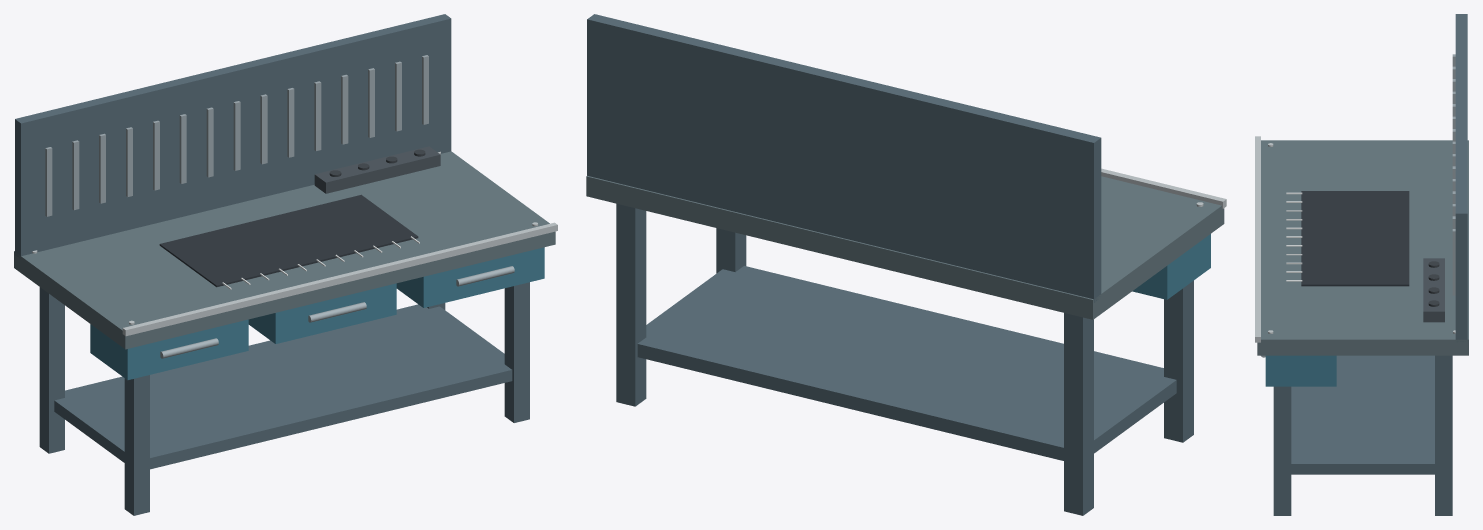
The model's file is workbench_lod0.glb.
3 renders of one model, left to right at view 1: azimuth 30°, elevation 25°; view 2: azimuth 150°, elevation 25°; view 3: azimuth 270°, elevation 25°, orthographic. The views are drawn at different scales.
Parts seen in each view (by area): view 1: BENCH_BACK_MAT_METAL_DARK, BENCH_TOP_MAT_BENCH_TOP, LOWER_SHELF_MAT_METAL_DARK, BENCH_ANTISTATIC_MAT_RUBBER, DRAWER_-1.65_MAT_POLYMER_BLUE, BENCH_EDGE_TRIM_MAT_STAINLESS, DRAWER_1.65_MAT_POLYMER_BLUE, DRAWER_0_MAT_POLYMER_BLUE, LEG_-2.12_-0.82_MAT_METAL_DARK, LEG_-2.12_0.82_MAT_METAL_DARK, LEG_2.12_0.82_MAT_METAL_DARK, BENCH_POWER_STRIP_MAT_POLYMER_BLACK; view 2: BENCH_BACK_MAT_METAL_DARK, LOWER_SHELF_MAT_METAL_DARK, BENCH_TOP_MAT_BENCH_TOP, LEG_2.12_-0.82_MAT_METAL_DARK, LEG_-2.12_-0.82_MAT_METAL_DARK, LEG_-2.12_0.82_MAT_METAL_DARK, DRAWER_-1.65_MAT_POLYMER_BLUE, LEG_2.12_0.82_MAT_METAL_DARK, BENCH_EDGE_TRIM_MAT_STAINLESS; view 3: BENCH_TOP_MAT_BENCH_TOP, LOWER_SHELF_MAT_METAL_DARK, BENCH_ANTISTATIC_MAT_RUBBER, BENCH_BACK_MAT_METAL_DARK, LEG_2.12_-0.82_MAT_METAL_DARK, LEG_2.12_0.82_MAT_METAL_DARK, DRAWER_1.65_MAT_POLYMER_BLUE, BENCH_EDGE_TRIM_MAT_STAINLESS, BENCH_POWER_STRIP_MAT_POLYMER_BLACK, BACK_SLOT_14_MAT_METAL_BRUSHED.
Part boxes in pixels (bbox=[...]): BENCH_BACK_MAT_METAL_DARK: bbox=[15, 14, 451, 258]; BENCH_TOP_MAT_BENCH_TOP: bbox=[14, 151, 555, 349]; LOWER_SHELF_MAT_METAL_DARK: bbox=[54, 304, 512, 469]; BENCH_ANTISTATIC_MAT_RUBBER: bbox=[159, 194, 418, 287]; DRAWER_-1.65_MAT_POLYMER_BLUE: bbox=[90, 319, 248, 380]; BENCH_EDGE_TRIM_MAT_STAINLESS: bbox=[122, 222, 557, 336]; DRAWER_1.65_MAT_POLYMER_BLUE: bbox=[396, 247, 544, 307]; DRAWER_0_MAT_POLYMER_BLUE: bbox=[248, 283, 396, 343]; LEG_-2.12_-0.82_MAT_METAL_DARK: bbox=[39, 287, 64, 453]; LEG_-2.12_0.82_MAT_METAL_DARK: bbox=[124, 375, 149, 515]; LEG_2.12_0.82_MAT_METAL_DARK: bbox=[504, 282, 529, 422]; BENCH_POWER_STRIP_MAT_POLYMER_BLACK: bbox=[314, 146, 440, 193]; BENCH_BACK_MAT_METAL_DARK: bbox=[587, 14, 1101, 302]; LOWER_SHELF_MAT_METAL_DARK: bbox=[637, 266, 1176, 460]; BENCH_TOP_MAT_BENCH_TOP: bbox=[586, 175, 1224, 319]; LEG_2.12_-0.82_MAT_METAL_DARK: bbox=[616, 203, 646, 406]; LEG_-2.12_-0.82_MAT_METAL_DARK: bbox=[1064, 313, 1093, 515]; LEG_-2.12_0.82_MAT_METAL_DARK: bbox=[1164, 280, 1193, 442]; DRAWER_-1.65_MAT_POLYMER_BLUE: bbox=[1132, 234, 1210, 299]; LEG_2.12_0.82_MAT_METAL_DARK: bbox=[716, 228, 746, 273]; BENCH_EDGE_TRIM_MAT_STAINLESS: bbox=[1101, 168, 1226, 208]; BENCH_TOP_MAT_BENCH_TOP: bbox=[1257, 140, 1468, 355]; LOWER_SHELF_MAT_METAL_DARK: bbox=[1291, 355, 1434, 474]; BENCH_ANTISTATIC_MAT_RUBBER: bbox=[1301, 191, 1409, 286]; BENCH_BACK_MAT_METAL_DARK: bbox=[1455, 14, 1467, 342]; LEG_2.12_-0.82_MAT_METAL_DARK: bbox=[1435, 355, 1452, 515]; LEG_2.12_0.82_MAT_METAL_DARK: bbox=[1273, 386, 1291, 515]; DRAWER_1.65_MAT_POLYMER_BLUE: bbox=[1265, 355, 1336, 386]; BENCH_EDGE_TRIM_MAT_STAINLESS: bbox=[1255, 136, 1260, 342]; BENCH_POWER_STRIP_MAT_POLYMER_BLACK: bbox=[1423, 258, 1444, 322]; BACK_SLOT_14_MAT_METAL_BRUSHED: bbox=[1452, 229, 1455, 295].
Size of the model in its own units: 4.82 by 3.48 by 2.18.
